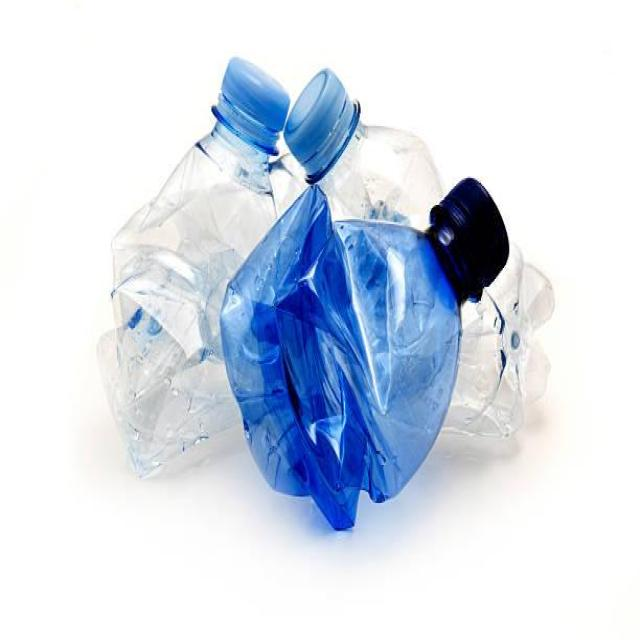plastic bottle: (220, 184, 463, 530), (316, 121, 556, 462), (97, 142, 283, 483)
plastic bottle cap: (431, 174, 511, 292), (286, 66, 348, 165), (220, 54, 291, 134)
